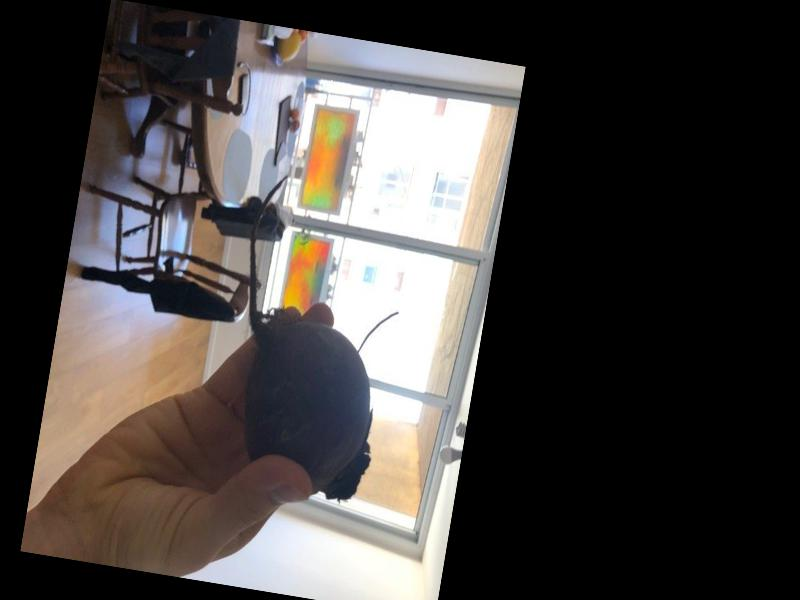Beet: (212, 171, 415, 504)
